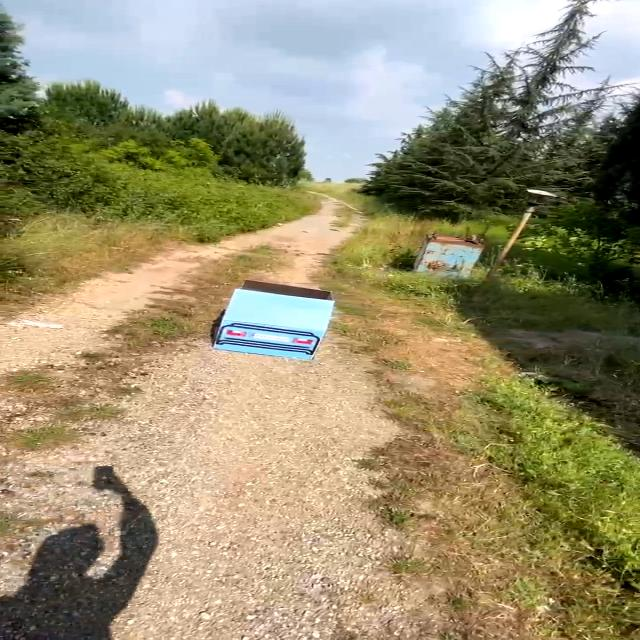blue_car: (199, 270, 346, 363)
